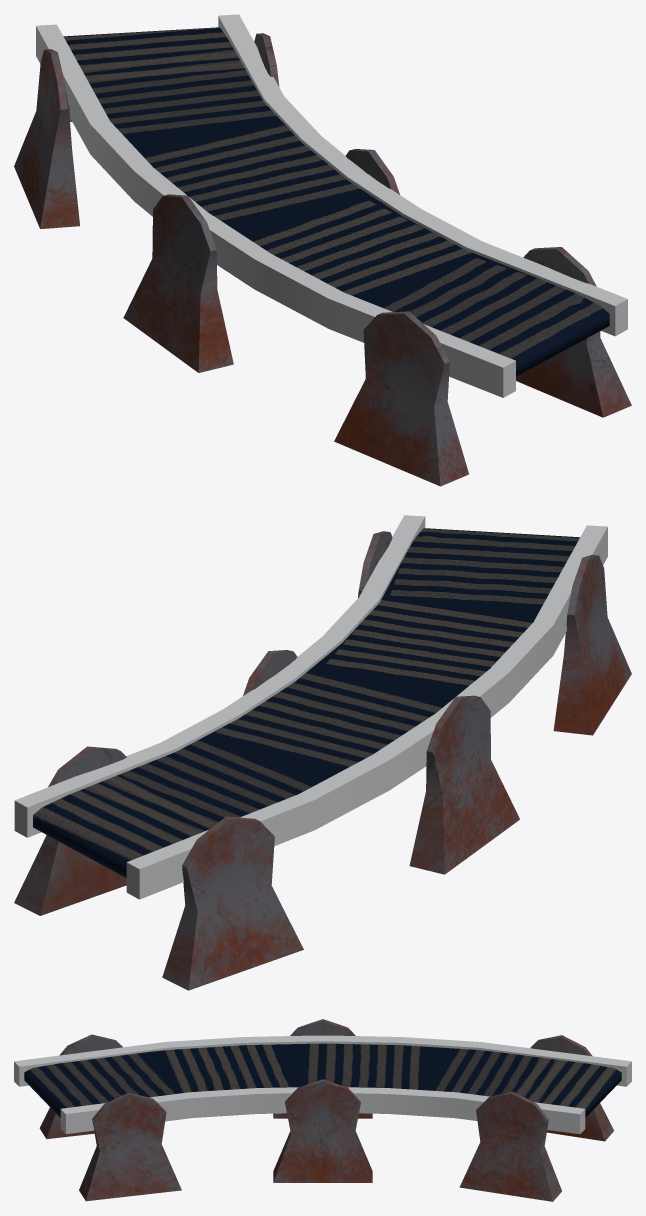
File: conveyor2.fbx
The picture shows the model from 3 angles, top to bottom: view 1: azimuth 30°, elevation 25°; view 2: azimuth 150°, elevation 25°; view 3: azimuth 270°, elevation 25°; orthographic projection. The views are drawn at different scales.
Visible parts, largest first — view 1: polySurface4; view 2: polySurface4; view 3: polySurface4.
Boxes of the visible parts, x1=… form: polySurface4: x1=14, y1=14, x2=631, y2=486; polySurface4: x1=14, y1=515, x2=631, y2=990; polySurface4: x1=14, y1=1019, x2=631, y2=1201.
Bounding box in the file's own units: 1.89 × 0.8806 × 5.2.
